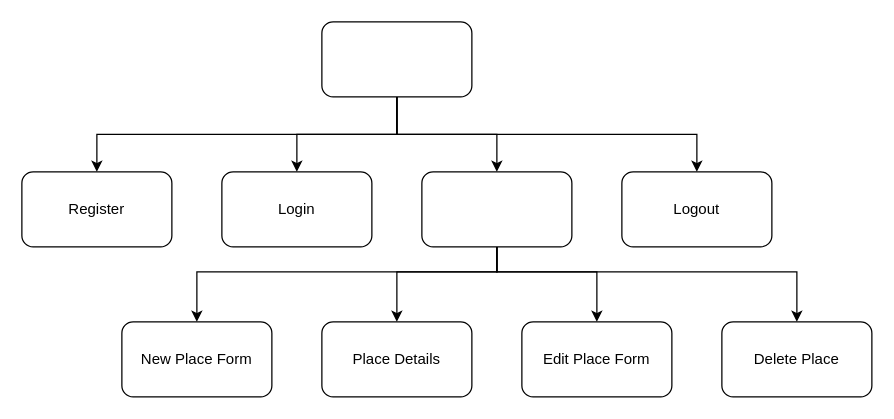
The diagram is 894 pixels wide and 419 high, and some of its shapes have lost their labels. Here are the shapes that lost their labels. From the top down, the centre of each, then its label:
point (396, 59): App
point (496, 209): Map Control *Stateful
